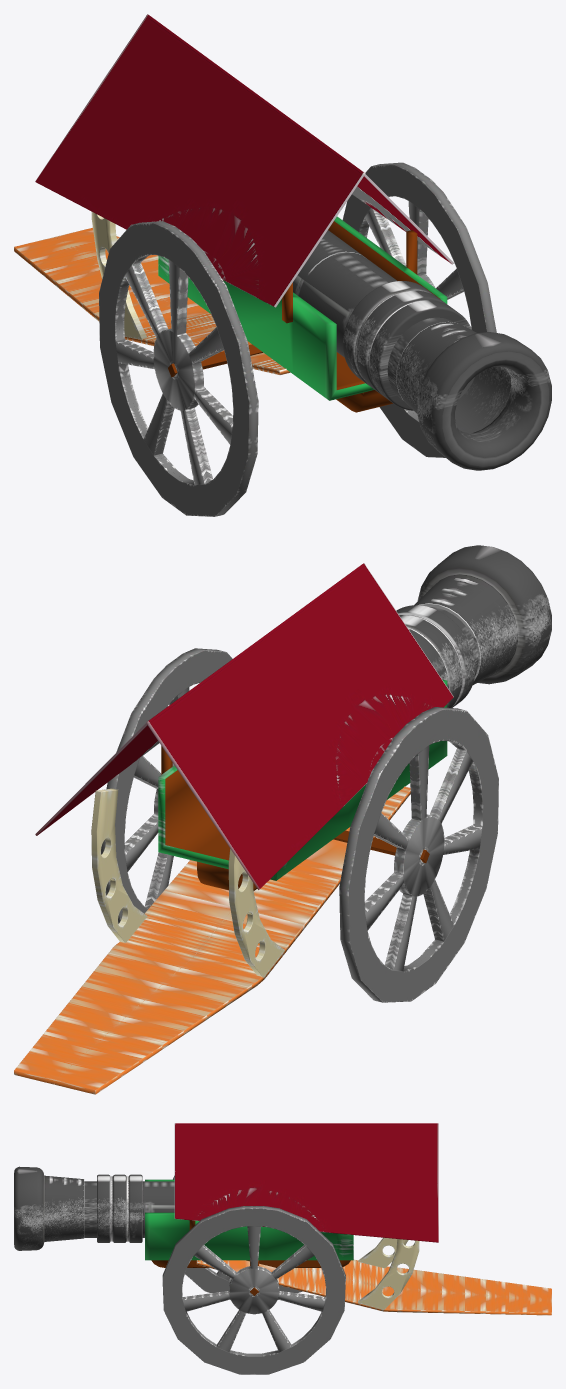
The model's file is Cannon.fbx.
3 renders of one model, top to bottom at view 1: azimuth 30°, elevation 25°; view 2: azimuth 150°, elevation 25°; view 3: azimuth 270°, elevation 25°, orthographic. The views are drawn at different scales.
Visible parts, largest first — view 1: roof, wheel2, weapon3, middle1, wheel1, bottom_plane, weapon2, weapon1, support1.001; view 2: roof, bottom_plane, wheel2, weapon3, middle1, wheel1, support1.002, weapon2, support1.001; view 3: roof, wheel1, bottom_plane, middle1, weapon3, weapon2, weapon1, support1.002, wheel2, support1.001.
Part boxes in pixels (box(x1,y1,x2,y2)): roof: box(35, 14, 453, 307); wheel2: box(99, 221, 258, 516); weapon3: box(396, 321, 551, 470); middle1: box(158, 216, 447, 412); wheel1: box(342, 162, 496, 457); bottom_plane: box(14, 227, 290, 374); weapon2: box(343, 281, 471, 410); weapon1: box(293, 230, 453, 400); support1.001: box(91, 211, 147, 339); roof: box(35, 563, 453, 889); bottom_plane: box(14, 786, 410, 1094); wheel2: box(339, 707, 498, 1002); weapon3: box(414, 545, 551, 684); middle1: box(158, 679, 447, 890); wheel1: box(101, 648, 232, 923); support1.002: box(91, 788, 147, 942); weapon2: box(396, 605, 475, 707); support1.001: box(228, 849, 284, 977); roof: box(174, 1123, 438, 1242); wheel1: box(162, 1206, 345, 1374); bottom_plane: box(196, 1259, 551, 1315); middle1: box(145, 1179, 353, 1267); weapon3: box(14, 1166, 84, 1250); weapon2: box(97, 1174, 142, 1242); weapon1: box(84, 1181, 174, 1237); support1.002: box(358, 1239, 419, 1310); wheel2: box(173, 1175, 302, 1299); support1.001: box(358, 1237, 408, 1267).
Bounding box in the file's own units: 17407 × 22942 × 52243.
